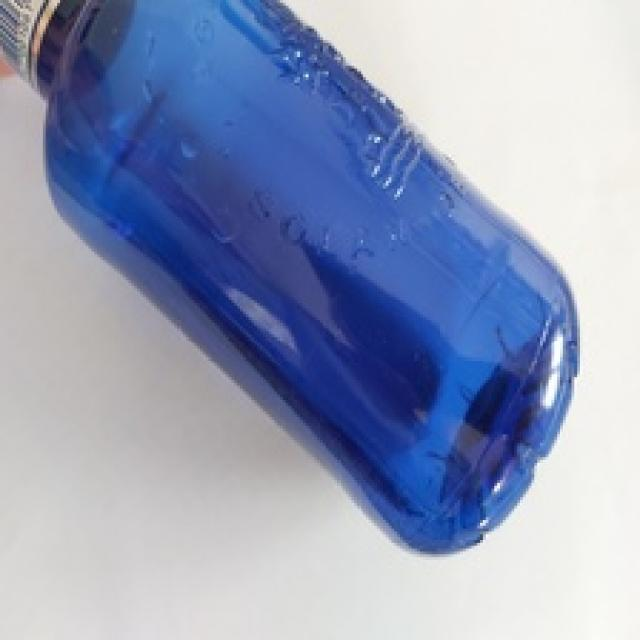Plastic: (0, 0, 581, 557)
